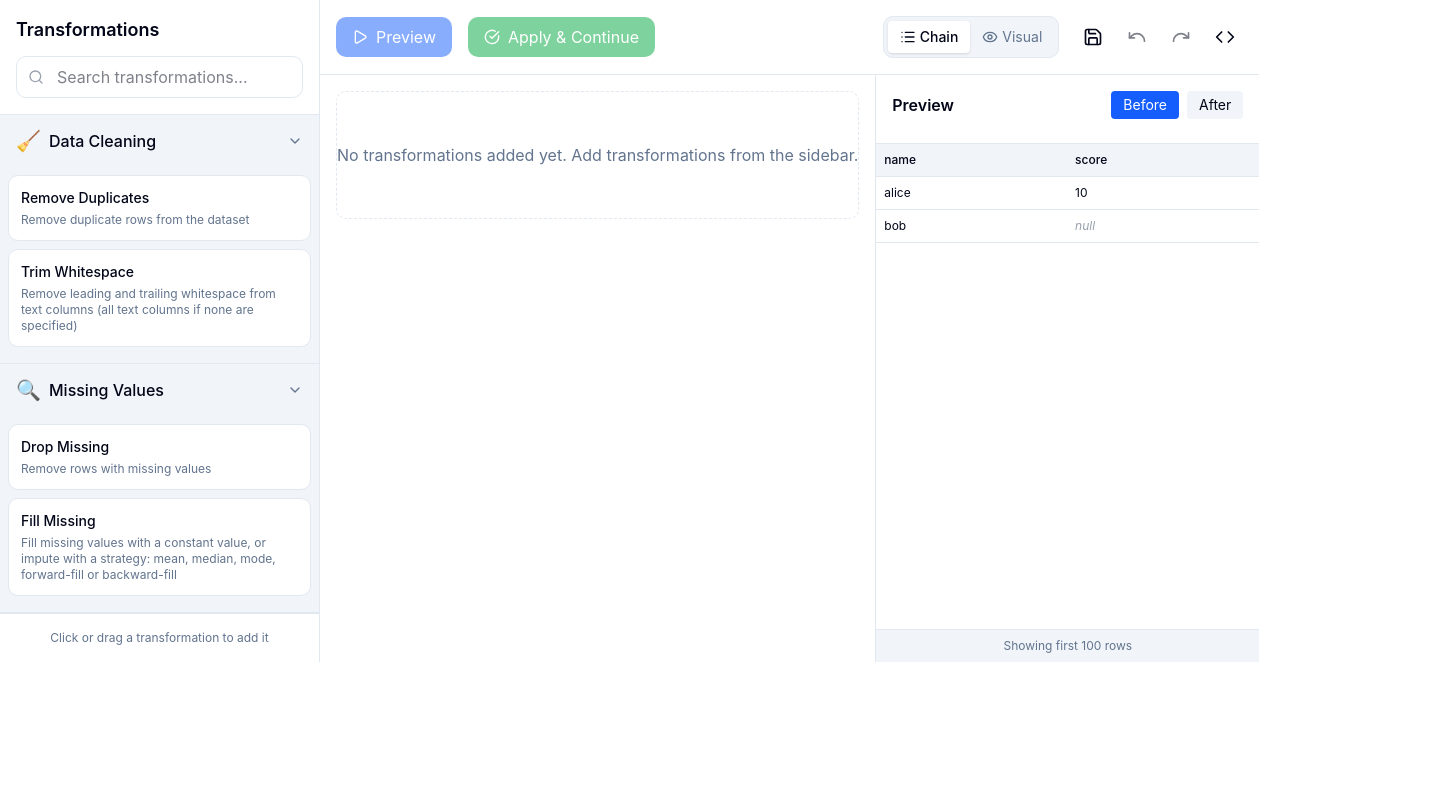
it: TransformationPipeline recipes (#859) › refuses a recipe with a step the pipeline no longer runs, naming the step (#929)
Click the button titled "Manage Recipes".
click(1093, 37)  # box [1075,19,1111,55]
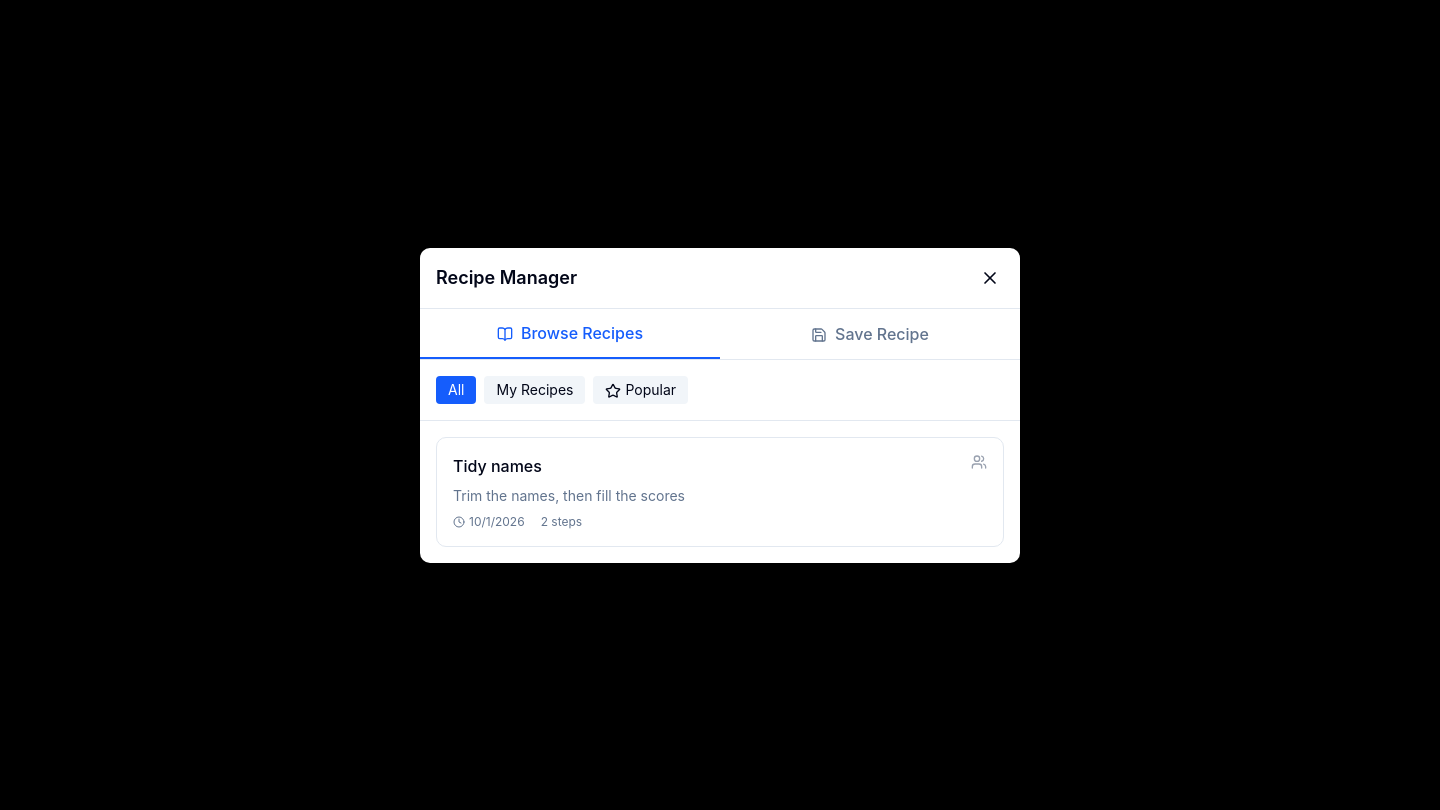
Click the text "Tidy names".
click(497, 466)  # box [453,454,542,478]
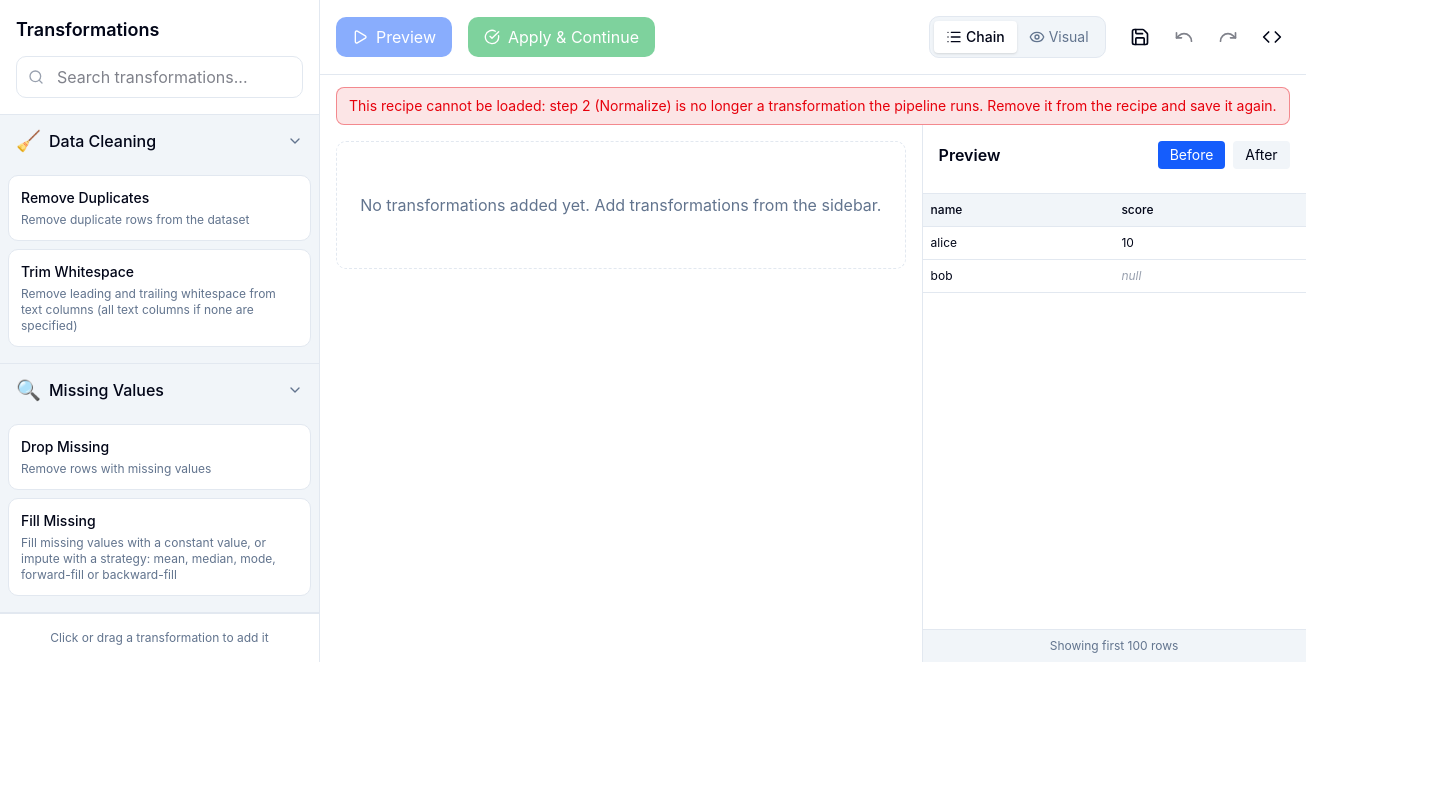
Check: the button "Preview" is disabled, box [336,17,452,57]
Check: the message with test id "pipeline-error" shows "This recipe cannot be loaded: step 2 (Normalize) is no longer a transformation the pipeline runs.", box [349,97,1277,114]
Check: the heading "Recipe Manager" is gone
